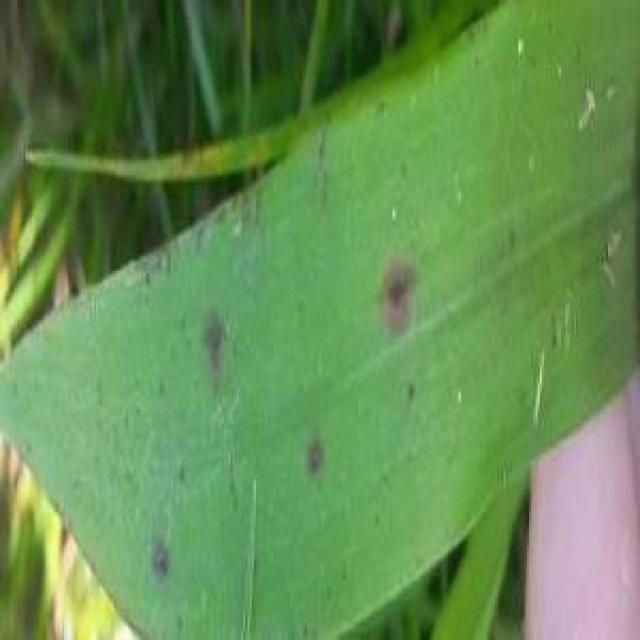Brown_Spot: (374, 254, 422, 334), (192, 307, 230, 375), (296, 425, 343, 475), (158, 542, 183, 584)
